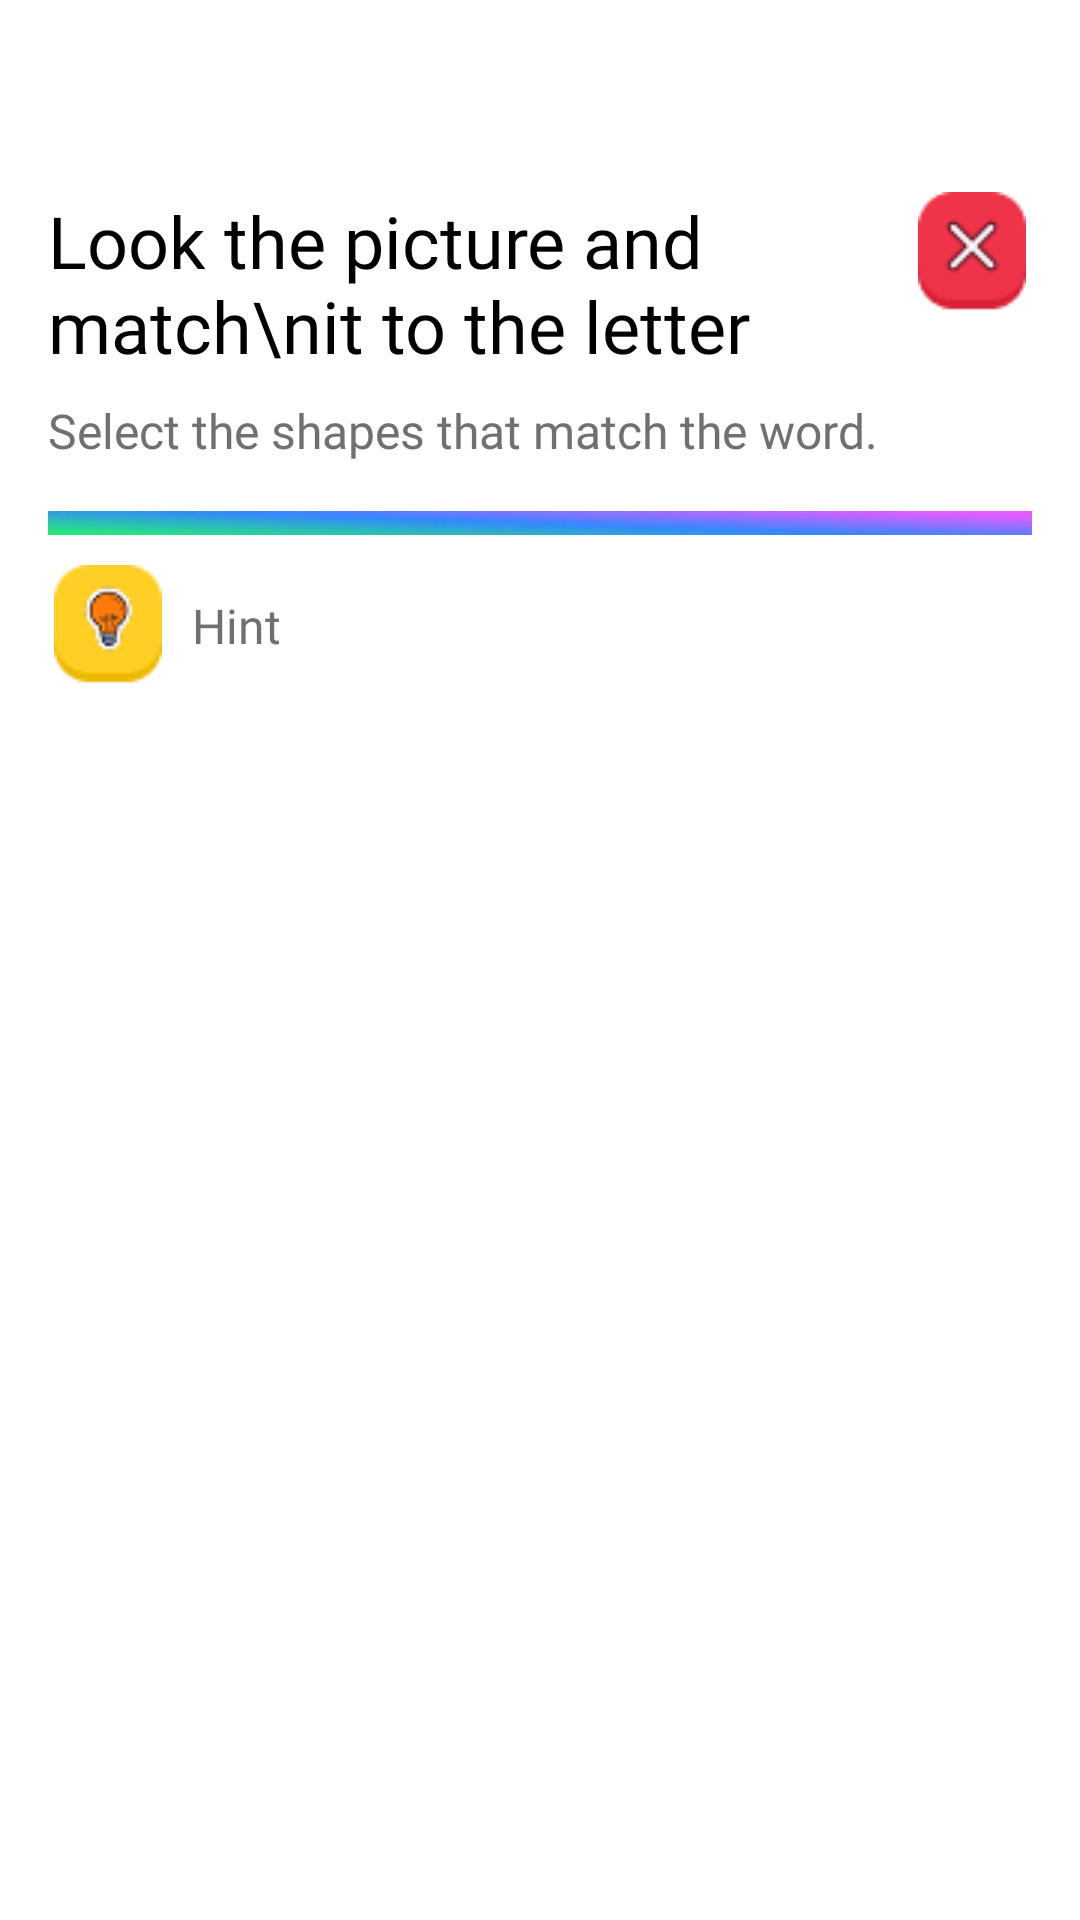

Point at icon controls on the screen. Image size 1080 x 1920, points as point (x, y).
close: point (972, 251)
